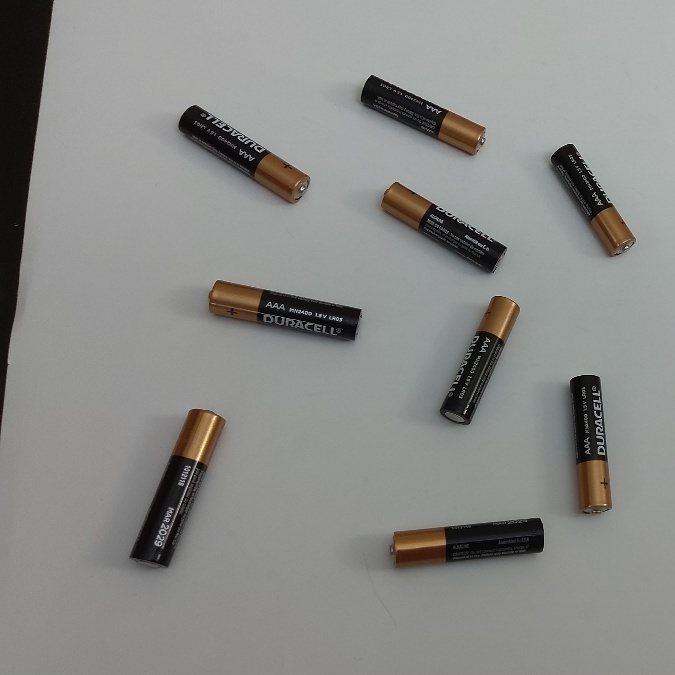battery: (126, 397, 231, 575), (170, 97, 315, 211), (429, 284, 524, 431), (369, 184, 513, 276), (350, 67, 493, 159), (385, 504, 552, 579), (547, 136, 642, 266), (204, 279, 364, 350), (562, 368, 619, 517)
